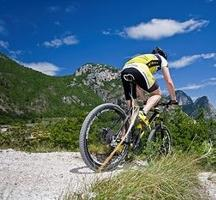person: (120, 47, 178, 143)
